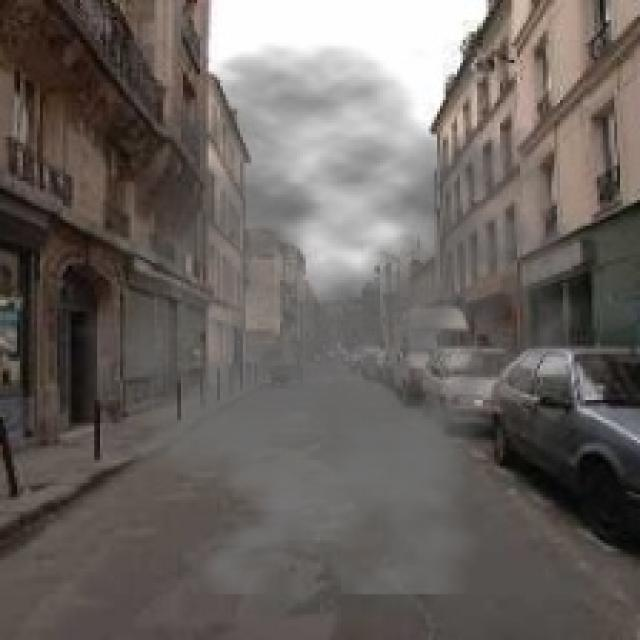Smoke: (46, 42, 608, 594)
